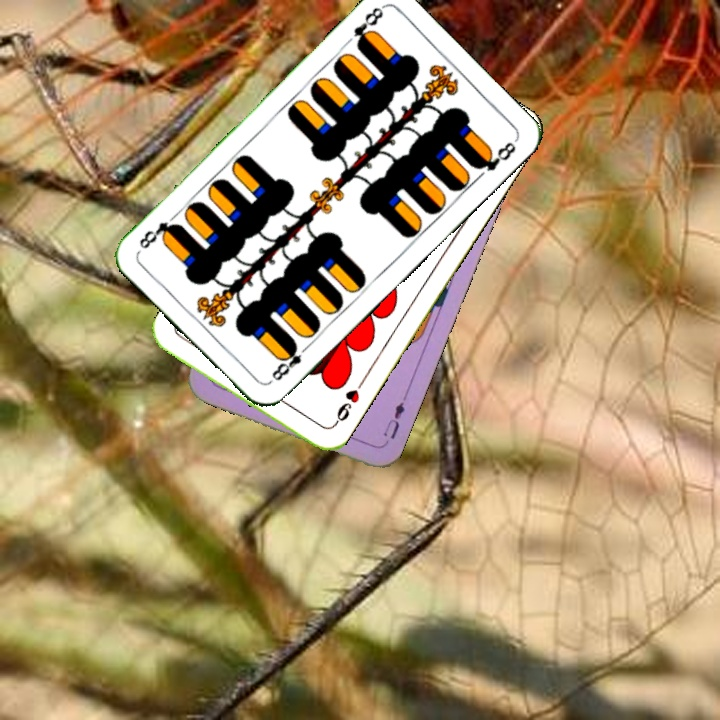E8: (265, 339, 312, 385), (349, 2, 386, 51)
EU: (379, 391, 410, 443)
H9: (328, 377, 367, 429)
